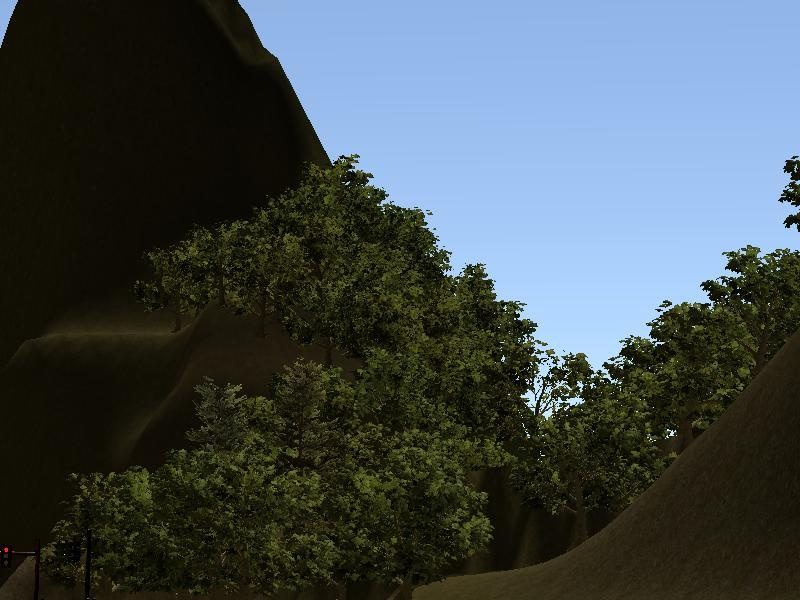Red: (1, 542, 13, 570)
